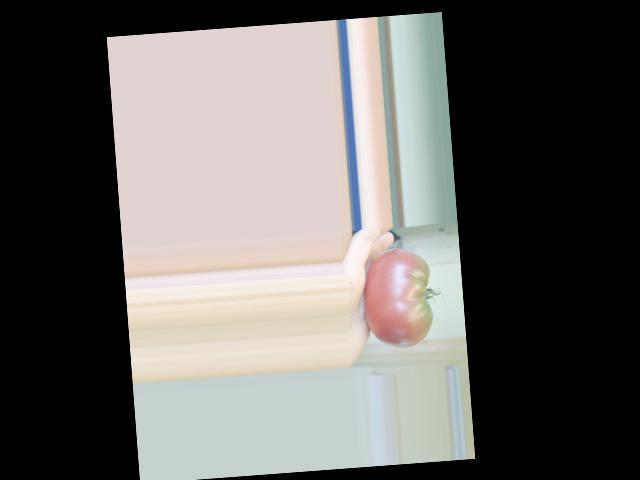tomato: (360, 247, 435, 350)
